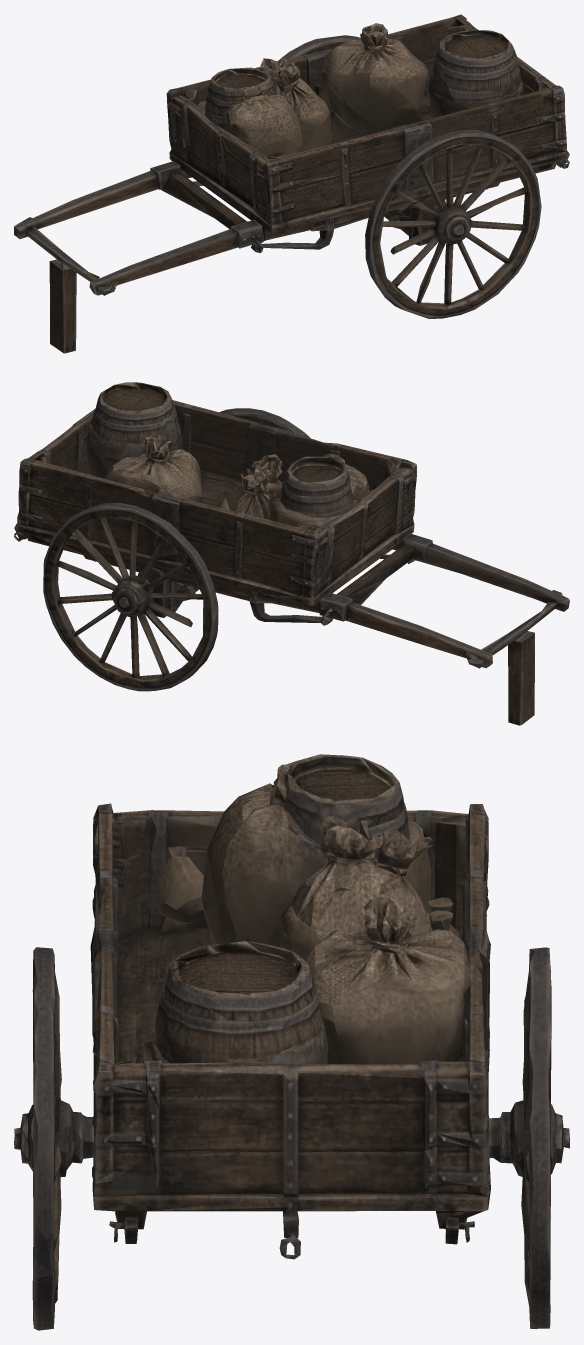
The model's file is SM_Cart_Victorian.glb.
3 renders of one model, top to bottom at view 1: azimuth 30°, elevation 25°; view 2: azimuth 150°, elevation 25°; view 3: azimuth 270°, elevation 25°, orthographic. The views are drawn at different scales.
Parts seen in each view (by area): view 1: Mesh_0; view 2: Mesh_0; view 3: Mesh_0.
Part boxes in pixels (x1,y1,x2,y2): Mesh_0: [14, 14, 569, 353]; Mesh_0: [14, 382, 569, 725]; Mesh_0: [14, 754, 569, 1330].
Size of the model in its own units: 1.9 by 0.8429 by 1.01.
Materials: 1 (1 with a texture image).
